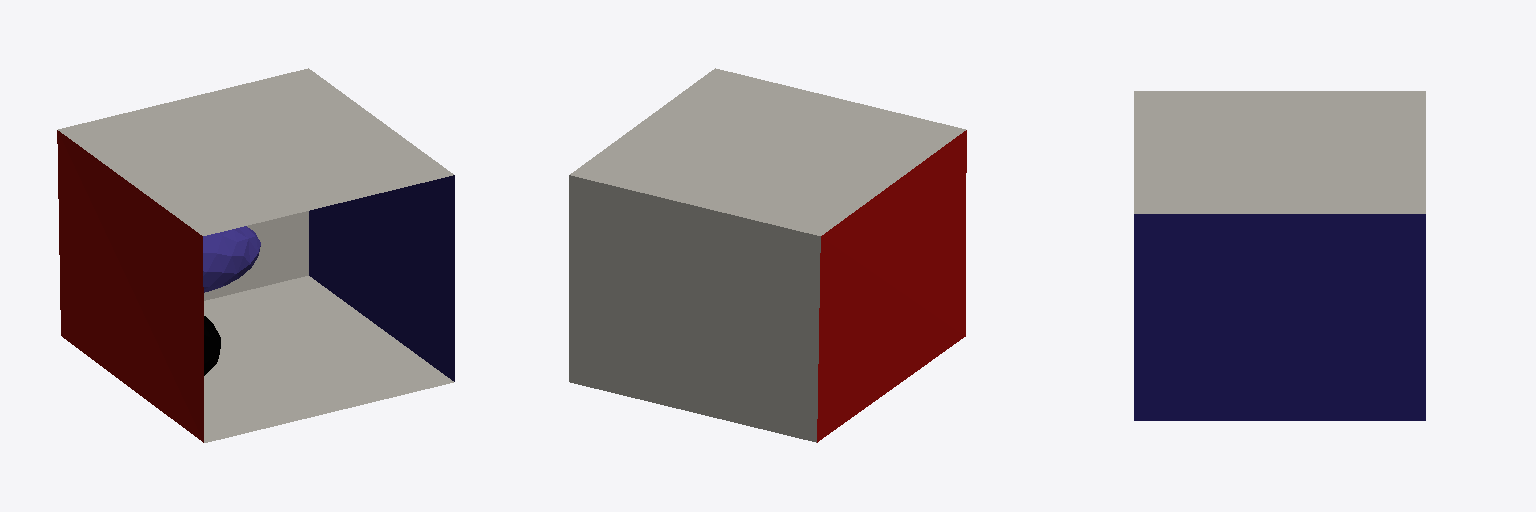
Rendered from CornellBox-Ellipsoid-58.obj.
3 renders of one model, left to right at view 1: azimuth 30°, elevation 25°; view 2: azimuth 150°, elevation 25°; view 3: azimuth 270°, elevation 25°, orthographic.
Parts seen in each view (by area): view 1: ceiling, leftWall, floor, rightWall, backWall, leftSphere, rightSphere; view 2: backWall, ceiling, leftWall; view 3: rightWall, ceiling.
Boxes of the visible parts, x1=… form: ceiling: x1=58, y1=68, x2=453, y2=235; leftWall: x1=57, y1=130, x2=203, y2=442; floor: x1=204, y1=276, x2=453, y2=442; rightWall: x1=309, y1=175, x2=454, y2=381; backWall: x1=204, y1=211, x2=308, y2=300; leftSphere: x1=203, y1=226, x2=260, y2=292; rightSphere: x1=204, y1=316, x2=220, y2=375; backWall: x1=569, y1=175, x2=820, y2=442; ceiling: x1=570, y1=68, x2=965, y2=235; leftWall: x1=817, y1=130, x2=966, y2=442; rightWall: x1=1134, y1=214, x2=1425, y2=420; ceiling: x1=1134, y1=91, x2=1425, y2=213.
Bounding box in the file's own units: 2.02 × 1.59 × 2.03.